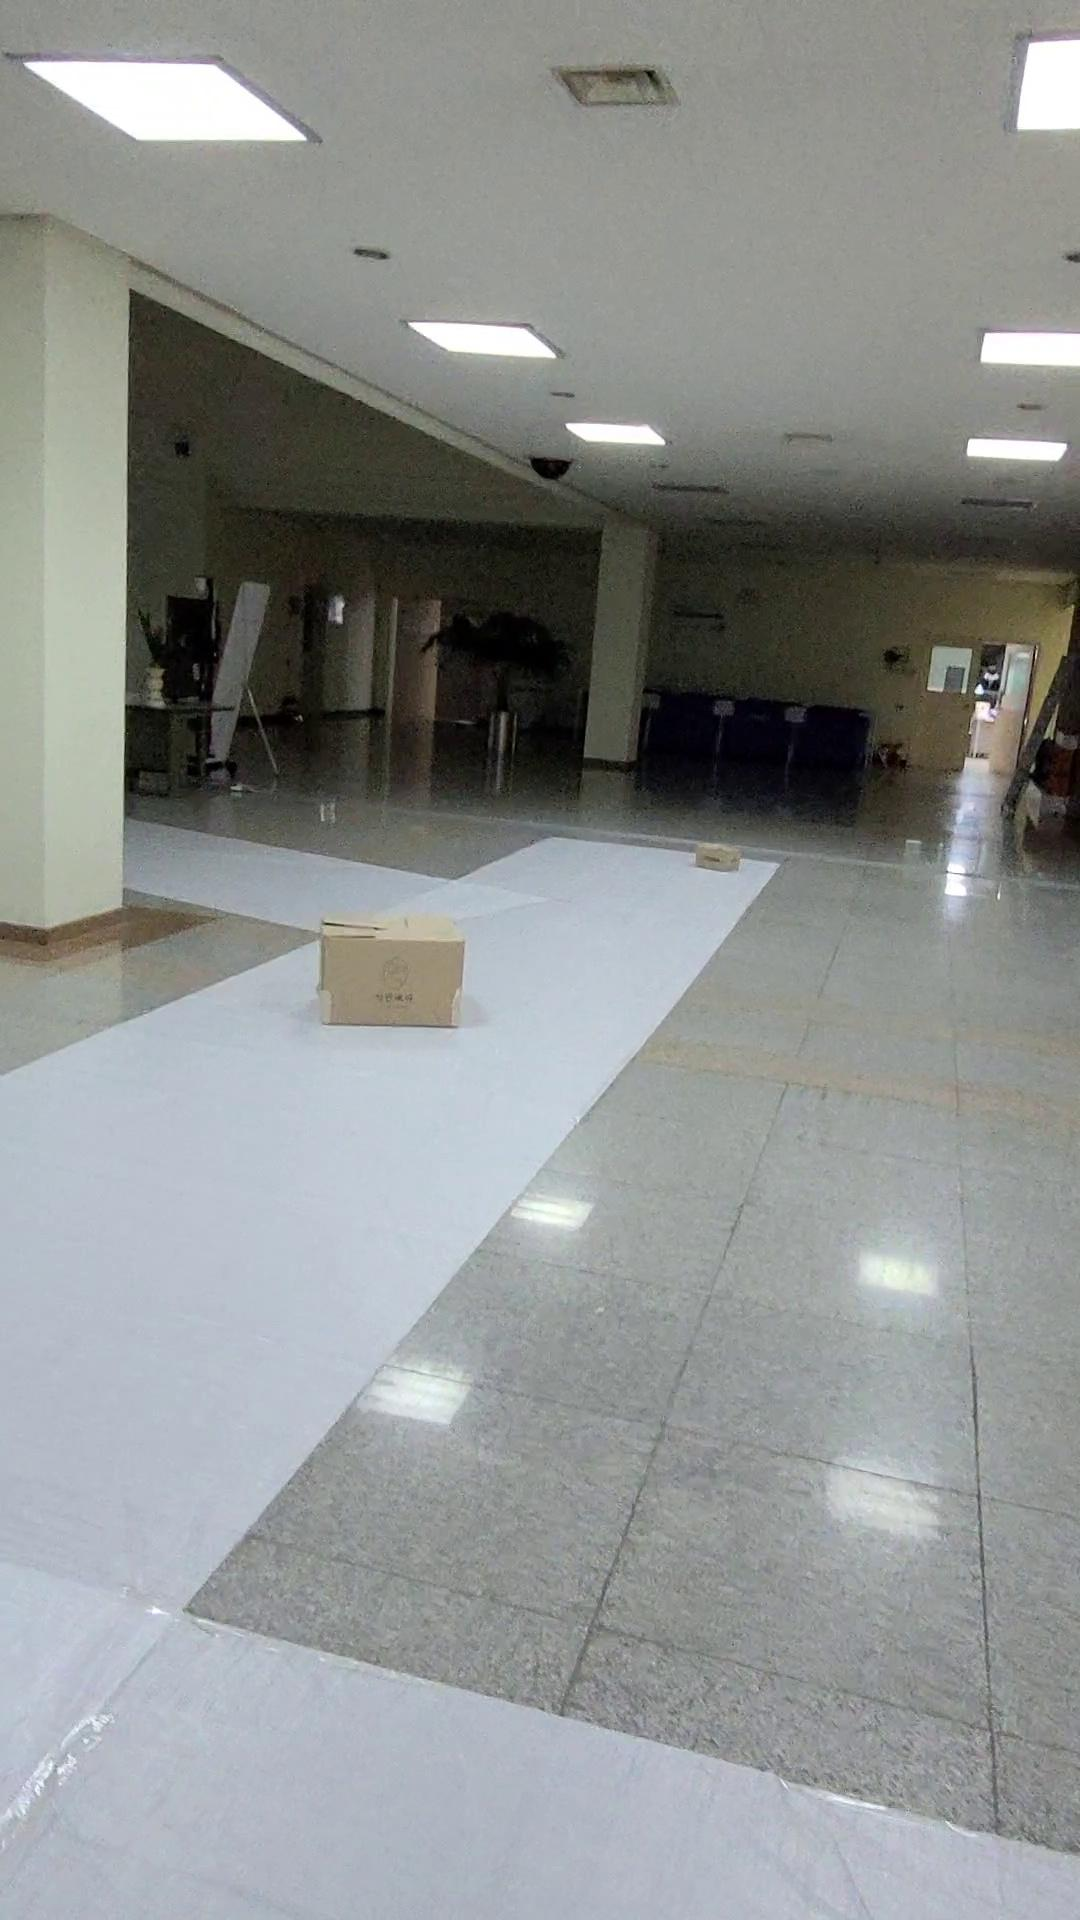Box: (295, 885, 488, 1065), (669, 828, 777, 898)
